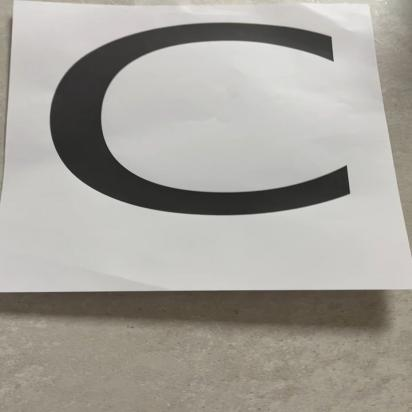seat: (0, 5, 412, 286)
